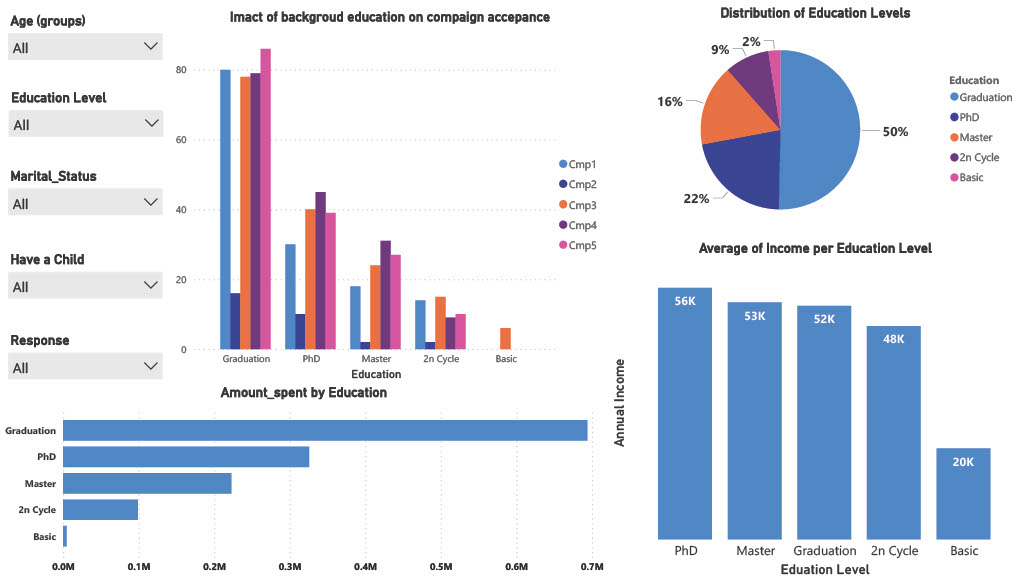

The page's visual inventory and layout, read from the dashboard file:
{"tool":"powerbi","page":{"name":"Impact of Education","canvas":[1280,720],"ordinal":2},"visuals":[{"type":"clusteredColumnChart","title":"Average of Income per Education Level","fields":{"Category":["Table1.Education"],"Y":["Avg(Table1.Income)"]},"box":[759.3,294.3,520.7,425.9],"z":0},{"type":"clusteredColumnChart","title":"Imact of backgroud education on compaign accepance","fields":{"Y":["Sum(Table1.Cmp1)","Sum(Table1.Cmp2)","Sum(Table1.Cmp3)","Sum(Table1.Cmp4)","Sum(Table1.Cmp5)"],"Category":["Table1.Education"]},"box":[214.7,4.8,545.1,469.1],"z":1000},{"type":"pieChart","title":"Distribution of Education Levels","fields":{"Category":["Table1.Education"],"Y":["CountNonNull(Table1.Education)"]},"box":[759.3,0,520.7,294.3],"z":2000},{"type":"slicer","fields":{"Values":["Table1.Age (groups)"]},"box":[0,4.8,213.5,95.3],"z":3000},{"type":"slicer","fields":{"Values":["Table1.Education"]},"box":[1.2,101.3,213.5,97.7],"z":4000},{"type":"slicer","fields":{"Values":["Table1.Marital_Status"]},"box":[0,199,213.5,103.7],"z":5000},{"type":"slicer","fields":{"Values":["Table1.HaveChild"]},"box":[0,302.7,213.5,101.3],"z":6000},{"type":"slicer","fields":{"Values":["Table1.Response"]},"box":[0,404,213.5,101.3],"z":7000},{"type":"clusteredBarChart","fields":{"Y":["Sum(Table1.Amount_spent)"],"Category":["Table1.Education"]},"box":[0,474,759.8,246],"z":8000}]}

Visuals, with their boxes in screenshot pixels (x1, y1, x2, y2), scaled from the page's 1280x720 canvas onto the 1024x585 screenshot:
"Average of Income per Education Level" clusteredColumnChart: (607,239,1023,584)
"Imact of backgroud education on compaign accepance" clusteredColumnChart: (172,4,608,385)
"Distribution of Education Levels" pieChart: (607,0,1023,239)
slicer - Table1.Age (groups): (0,4,171,81)
slicer - Table1.Education: (1,82,172,162)
slicer - Table1.Marital_Status: (0,162,171,246)
slicer - Table1.HaveChild: (0,246,171,328)
slicer - Table1.Response: (0,328,171,411)
clusteredBarChart - Sum(Table1.Amount_spent) x Table1.Education: (0,385,608,584)
